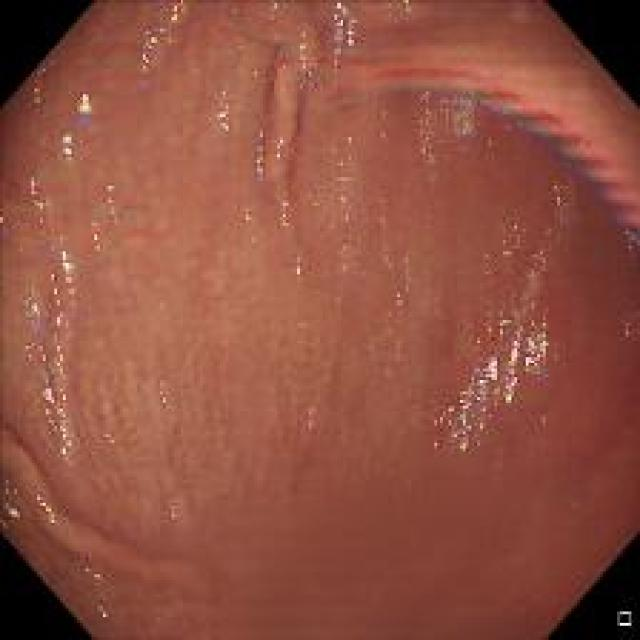color misalignment: (16, 171, 91, 465), (374, 198, 421, 381), (431, 356, 511, 451), (474, 219, 561, 295), (471, 315, 555, 391), (324, 125, 361, 282), (416, 82, 481, 164), (126, 0, 190, 72), (495, 92, 570, 148), (248, 125, 304, 189), (322, 1, 361, 84), (578, 152, 629, 215), (288, 20, 321, 95), (208, 78, 239, 138), (25, 54, 52, 115), (542, 171, 570, 222), (232, 190, 260, 239), (29, 486, 59, 531), (608, 215, 635, 265), (1, 472, 22, 535), (71, 86, 104, 126), (272, 196, 299, 232), (288, 244, 306, 294), (262, 1, 281, 46), (294, 401, 321, 432), (88, 216, 104, 265), (150, 379, 174, 410), (381, 1, 420, 20), (100, 184, 120, 220), (88, 599, 118, 622), (618, 306, 635, 345), (80, 564, 110, 586), (159, 492, 181, 522), (101, 425, 120, 452), (58, 132, 76, 159)
